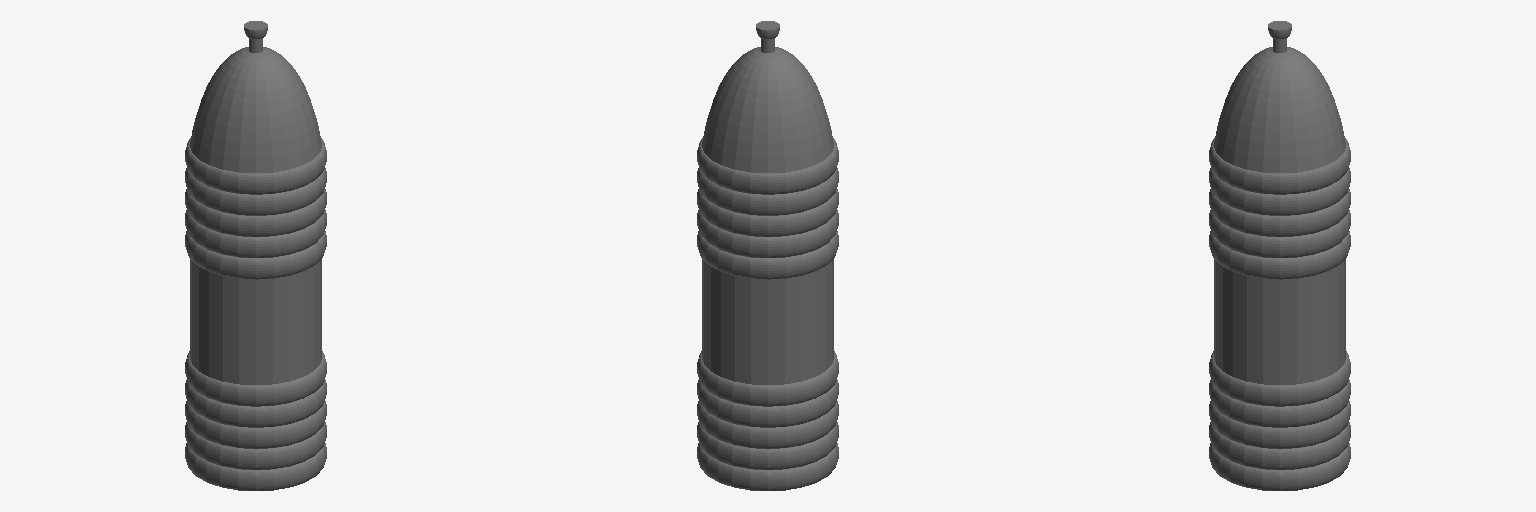
URDF robot description (object):
<?xml version="1.0"?>
<robot name="object">
  <link name="object">
    <visual>
      <origin xyz="0 0 0"/>
      <geometry>
        <mesh
          filename="../../mesh/oakink_virtual/cylinder_bottle_s466.stl" />
      </geometry>
      <material name="mat">
        <color rgba="0.5 0.5 0.5 1"/>
      </material>
    </visual>

    <collision>
      <origin xyz="0 0 0"/>
      <geometry>
        <mesh
          filename="../../mesh/oakink_virtual/cylinder_bottle_s466.stl" />
      </geometry>
    </collision>
  </link>
</robot>

--- Facts derived from the render (not from the file) ---
The picture shows the robot from 3 angles, left to right: view 1: azimuth 30°, elevation 25°; view 2: azimuth 150°, elevation 25°; view 3: azimuth 270°, elevation 25°; orthographic projection.
Robot: object — 1 links, 0 joints (none); root link object; default pose: all joints at 0.
Visible links, largest first — view 1: object; view 2: object; view 3: object.
Link boxes in pixels (x1,y1,x2,y2): object: [185, 21, 326, 490]; object: [697, 21, 838, 490]; object: [1209, 21, 1350, 490].
Bounding box of the posed robot: 0.0839 × 0.0839 × 0.2835 m (x, y, z).
Meshes: 1 distinct files referenced, 1 mesh visuals loaded (1 binary STL).